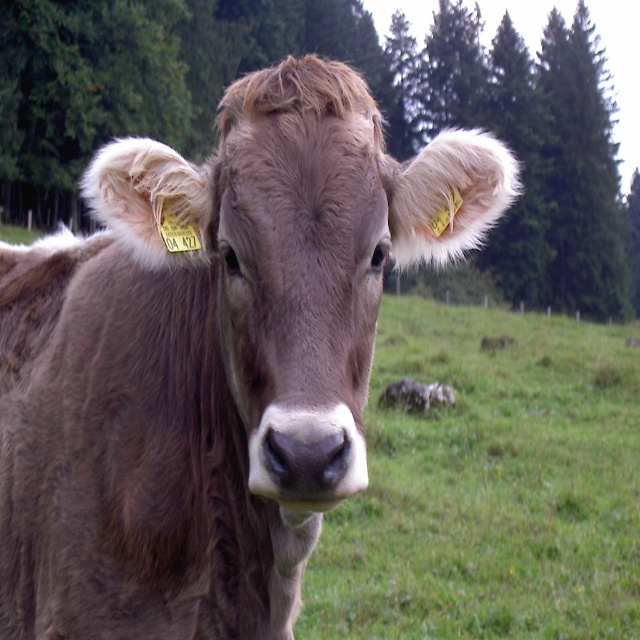Cattle: (0, 44, 527, 640)
